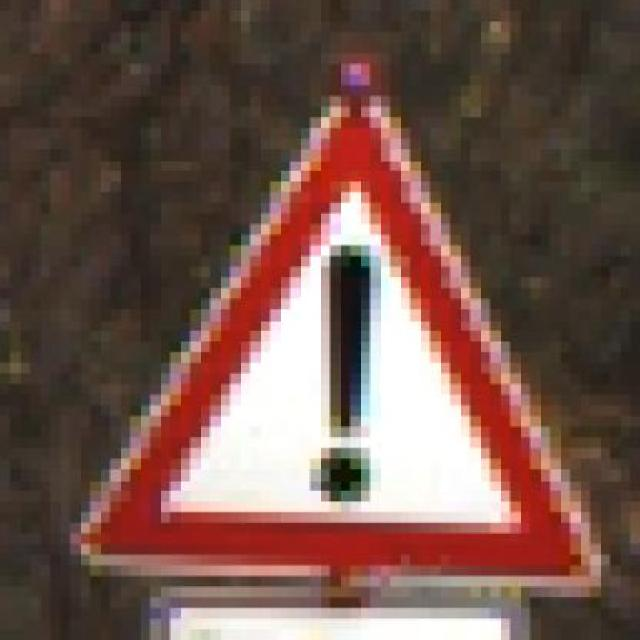Attention Please-: (60, 75, 611, 598)
